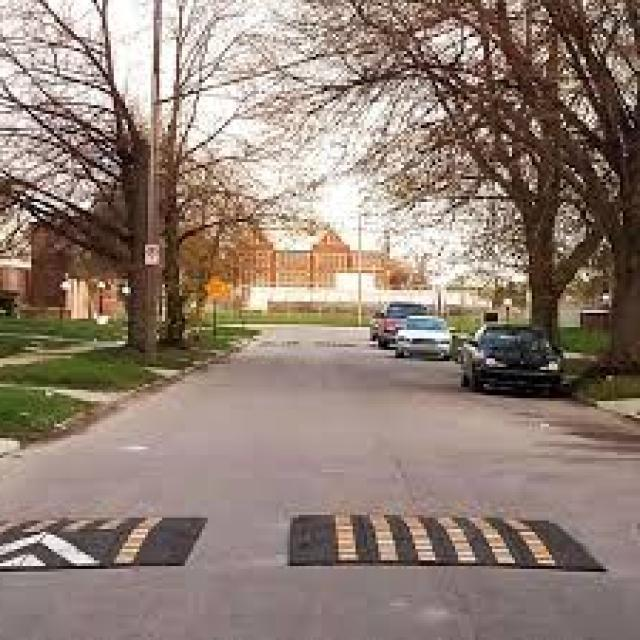speedbreaker: (291, 514, 597, 566), (0, 512, 208, 572)
